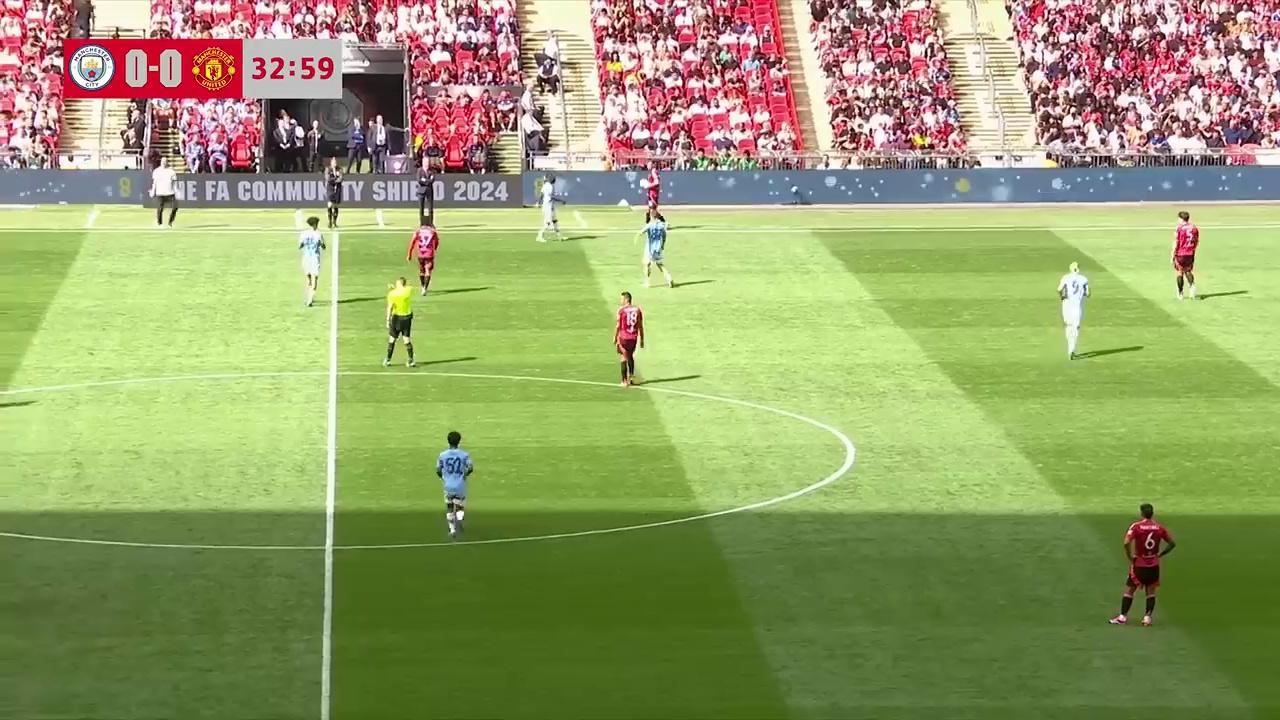player: (1109, 502, 1175, 626), (436, 430, 474, 540), (1057, 262, 1090, 360), (613, 292, 645, 387), (639, 211, 674, 286), (407, 218, 438, 295), (1172, 214, 1199, 299), (298, 219, 324, 305), (535, 177, 563, 241), (641, 172, 662, 224)
referee: (382, 276, 417, 368)
